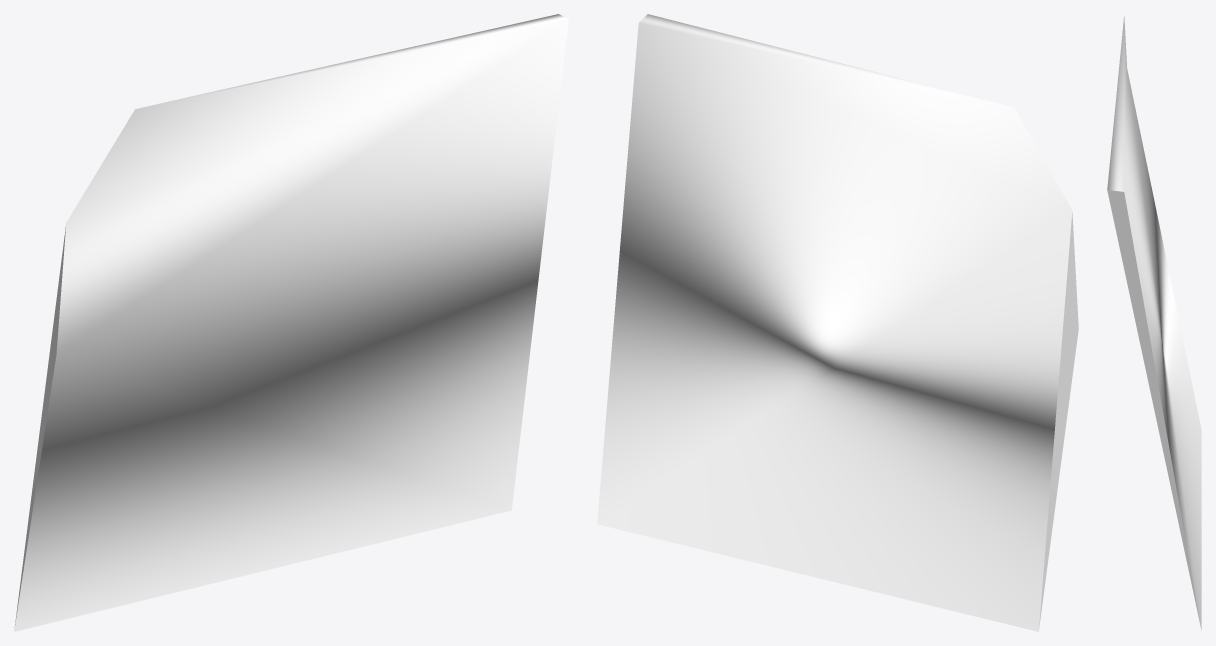
3 renders of one model, left to right at view 1: azimuth 30°, elevation 25°; view 2: azimuth 150°, elevation 25°; view 3: azimuth 270°, elevation 25°, orthographic. The views are drawn at different scales.
Bounding box in the file's own units: 0.2224 × 0.2295 × 0.044.
1 material, 1 textured.
